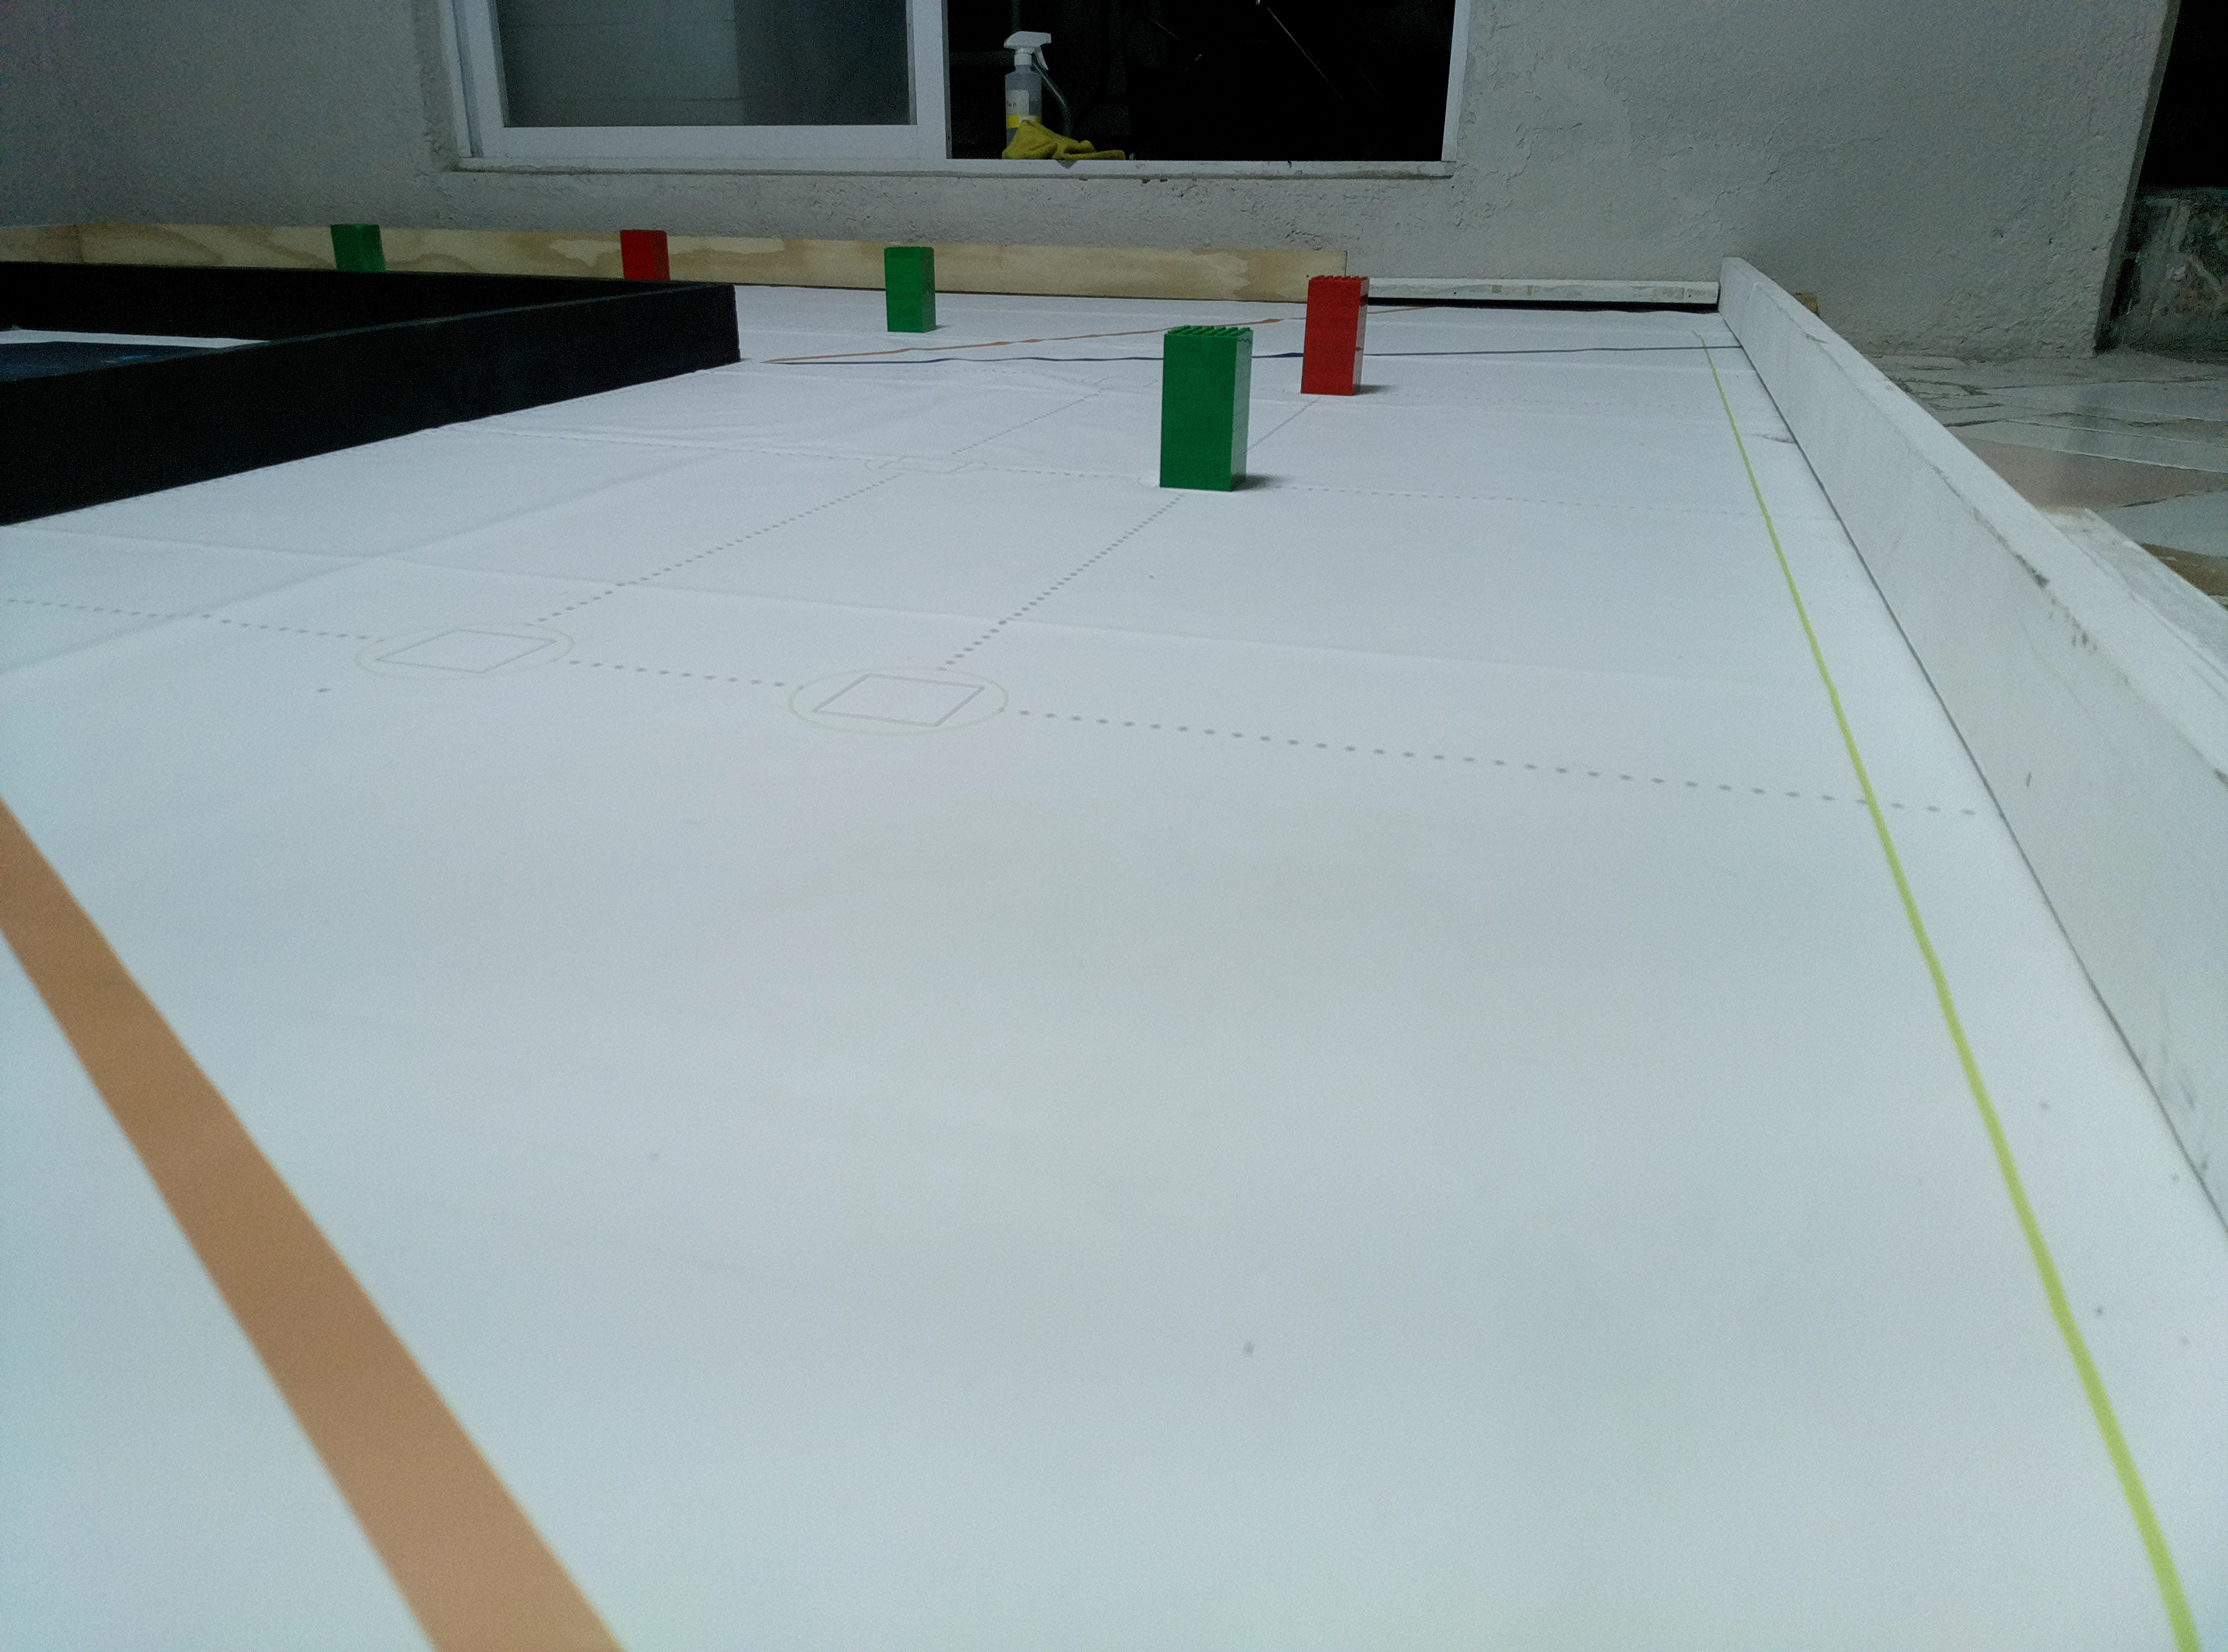greenbox: (1154, 324, 1260, 493), (883, 245, 937, 335), (326, 222, 389, 271)
redbox: (1300, 274, 1371, 397), (618, 227, 673, 281)
